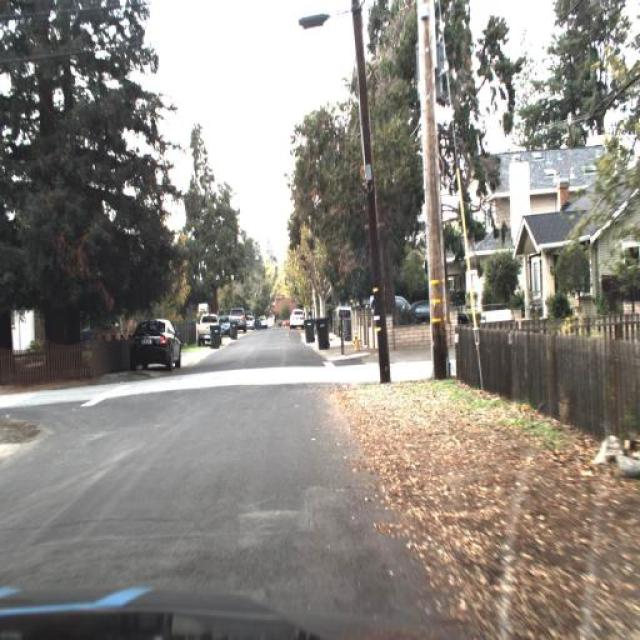car: (124, 312, 180, 374), (126, 317, 186, 368), (406, 296, 473, 326), (192, 304, 222, 348), (374, 289, 414, 320), (196, 312, 223, 348), (220, 313, 239, 338), (230, 308, 248, 332), (290, 308, 306, 328), (247, 314, 256, 330)
